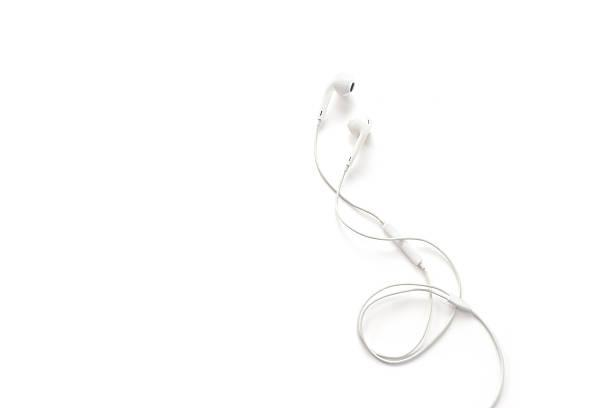headphone: (306, 72, 506, 408)
